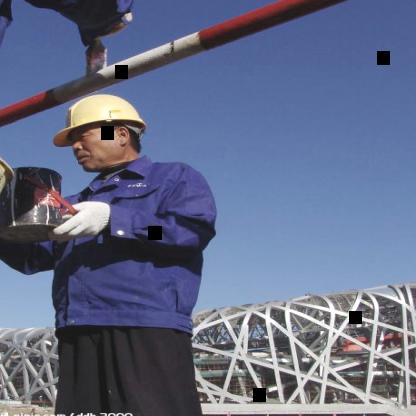helmet: (50, 88, 162, 174)
